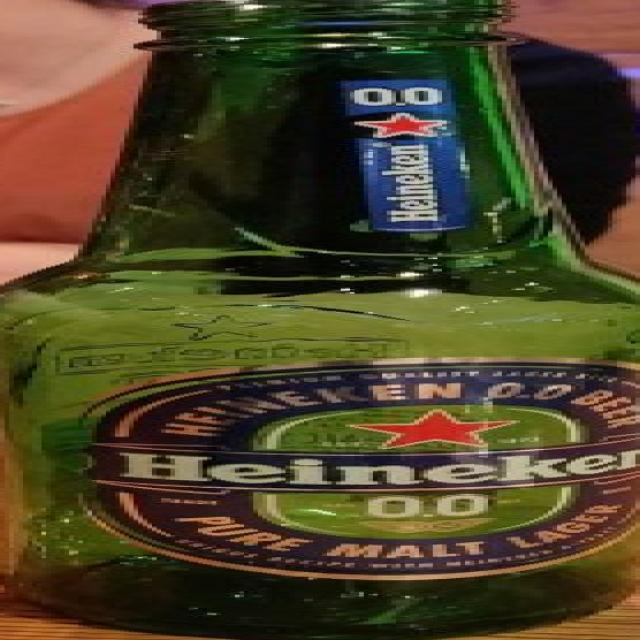Heineken: (0, 1, 640, 640)
